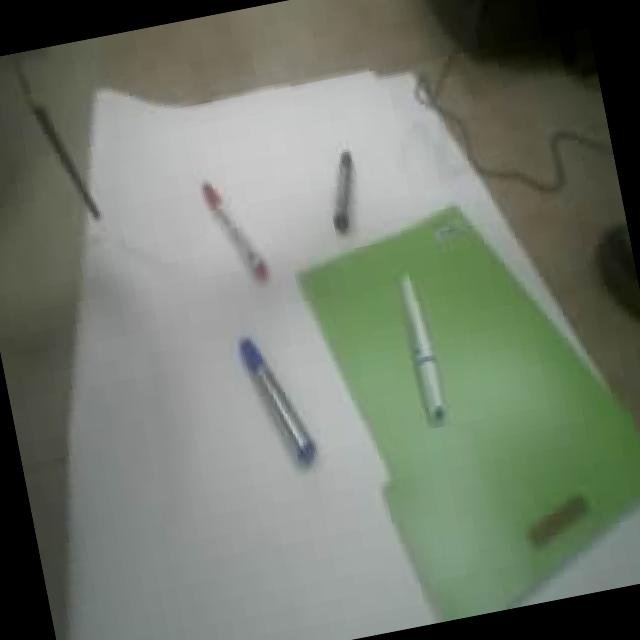board-marker: (401, 273, 446, 422), (204, 181, 269, 280), (334, 149, 354, 232)
